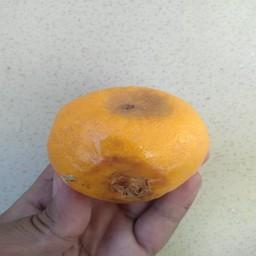Bad_orange: (44, 81, 216, 204)
